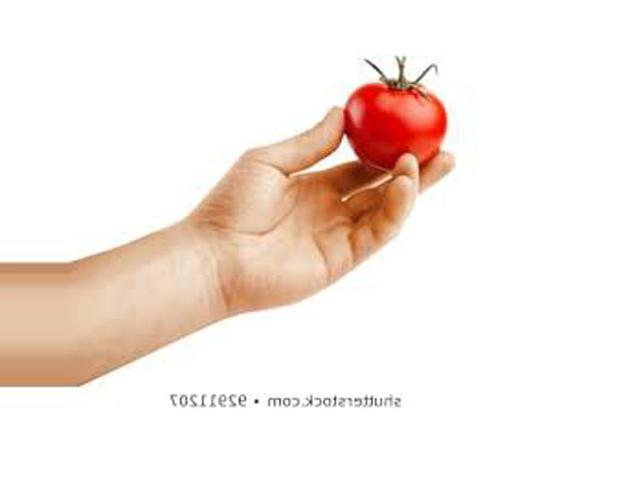tomato: (342, 82, 447, 172)
